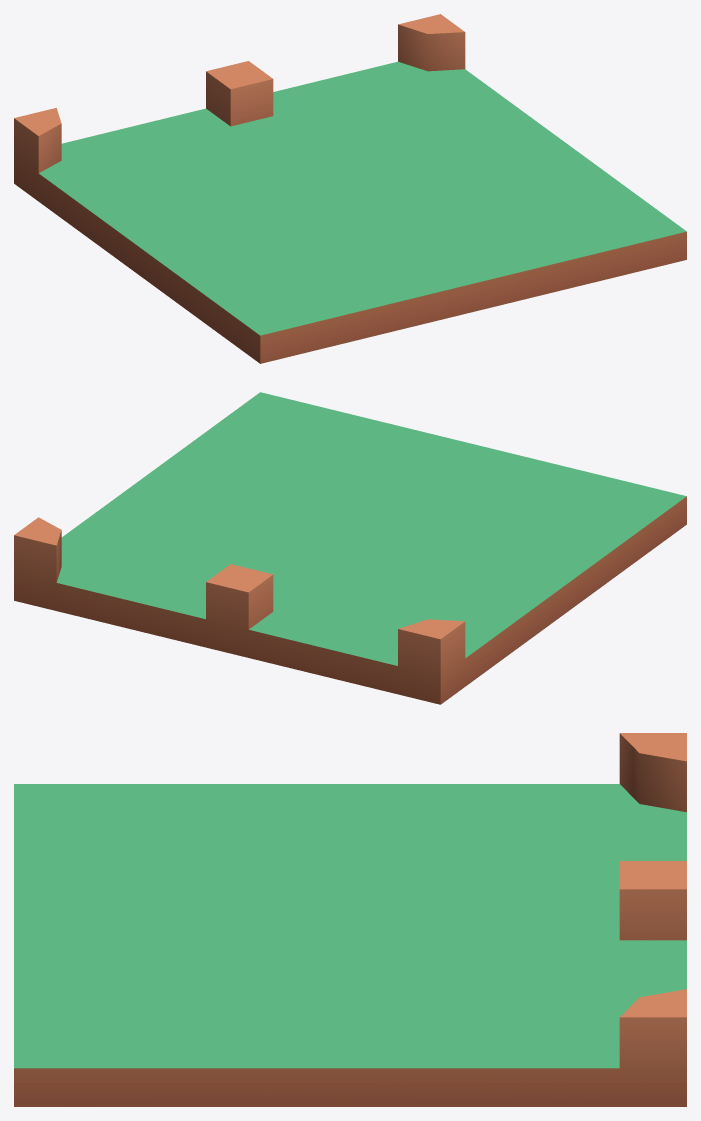
Rendered from split-walls-to-open.glb.
3 views of the same model, one above another, from view 1: azimuth 30°, elevation 25°; view 2: azimuth 150°, elevation 25°; view 3: azimuth 270°, elevation 25° (orthographic). The views are drawn at different scales.
Visible parts, largest first — view 1: split-walls-to-open; view 2: split-walls-to-open; view 3: split-walls-to-open.
Part boxes in pixels (<box>): split-walls-to-open: <box>14,14,686,363</box>; split-walls-to-open: <box>14,392,686,704</box>; split-walls-to-open: <box>14,733,686,1106</box>.
Bounding box in the file's own units: 0.9999 × 0.1467 × 0.9999.
Materials: 1 (1 with a texture image).
